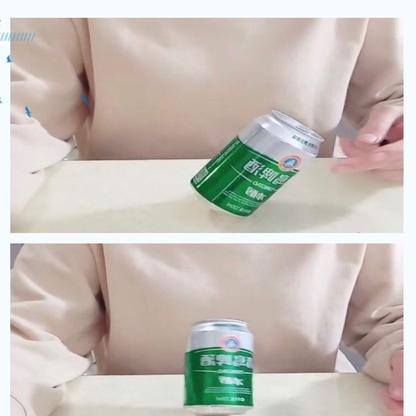can: (182, 105, 330, 219), (179, 311, 265, 416)
